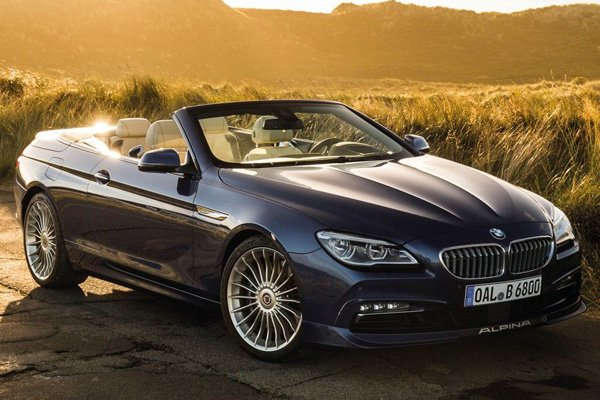car: (13, 99, 586, 363)
